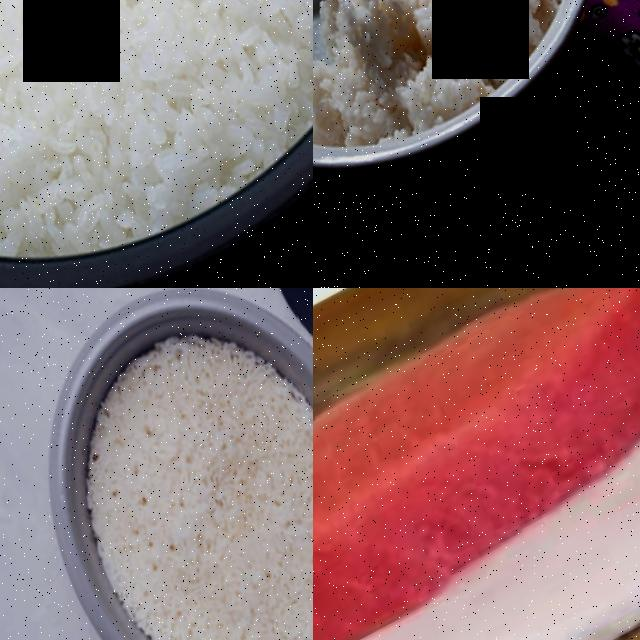tuna: (313, 288, 640, 640)
white rice: (0, 0, 313, 288), (63, 329, 313, 640), (313, 0, 597, 169)
